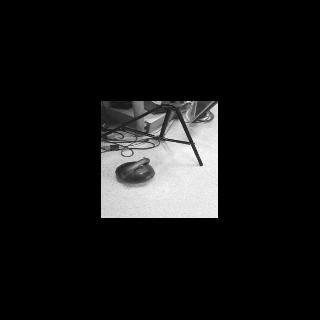kettlebell: (113, 156, 156, 184)
